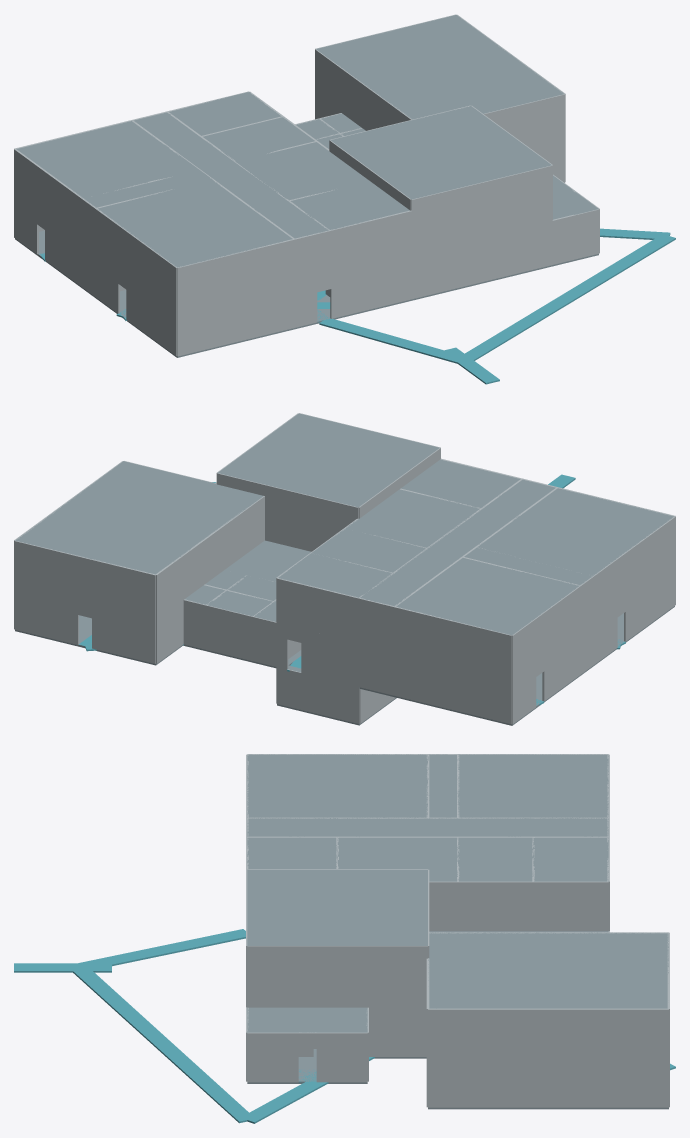
The model's file is rough-shell.glb.
3 renders of one model, top to bottom at view 1: azimuth 30°, elevation 25°; view 2: azimuth 150°, elevation 25°; view 3: azimuth 270°, elevation 25°, orthographic. The views are drawn at different scales.
Visible parts, largest first — view 1: Ceiling cap gym, Ceiling cap assembly, Ceiling cap library, Wall assembly S, Ceiling cap class-b, Ceiling cap upper-corridor, Wall library S, Wall class-a-store S, Ceiling cap upper-stair, Wall dining S, Wall library W, Wall upper-lobby S (+28 smaller); view 2: Ceiling cap gym, Ceiling cap assembly, Ceiling cap library, Ceiling cap class-b, Wall gym N.001, Wall gym N, Ceiling cap upper-corridor, Wall class-b N, Wall science N, Wall assembly N, Ceiling cap upper-stair, Wall wash-a N (+33 smaller); view 3: Wall gym E, Ceiling cap gym, Ceiling cap assembly, Ceiling cap library, Wall assembly E, Ceiling cap class-b, Ceiling cap upper-corridor, Ceiling cap upper-stair, Wall wash-a E, Wall wash-b E, Ceiling cap wash-a, L41 support 1 (+12 smaller).
Part boxes in pixels (<box>): Ceiling cap gym: <box>316,15,563,119</box>; Ceiling cap assembly: <box>331,106,551,199</box>; Ceiling cap library: <box>97,180,292,267</box>; Wall assembly S: <box>411,165,552,254</box>; Ceiling cap class-b: <box>16,121,199,198</box>; Ceiling cap upper-corridor: <box>133,112,328,238</box>; Wall library S: <box>177,239,294,312</box>; Wall class-a-store S: <box>177,284,294,356</box>; Ceiling cap upper-stair: <box>235,142,369,200</box>; Wall dining S: <box>412,232,505,299</box>; Wall library W: <box>95,208,177,311</box>; Wall upper-lobby S: <box>329,210,411,274</box>; Ceiling cap gym: <box>15,461,263,574</box>; Ceiling cap assembly: <box>218,413,439,507</box>; Ceiling cap library: <box>477,488,674,575</box>; Ceiling cap class-b: <box>396,558,579,635</box>; Wall gym N.001: <box>14,540,78,644</box>; Wall gym N: <box>92,559,155,663</box>; Ceiling cap upper-corridor: <box>360,479,555,606</box>; Wall class-b N: <box>394,606,512,679</box>; Wall science N: <box>394,651,512,724</box>; Wall assembly N: <box>217,473,358,551</box>; Ceiling cap upper-stair: <box>345,489,480,547</box>; Wall wash-a N: <box>276,578,358,642</box>; Wall gym E: <box>428,1008,668,1107</box>; Ceiling cap gym: <box>428,932,668,1008</box>; Ceiling cap assembly: <box>247,869,427,945</box>; Ceiling cap library: <box>247,754,427,817</box>; Wall assembly E: <box>247,946,427,1007</box>; Ceiling cap class-b: <box>458,754,608,817</box>; Ceiling cap upper-corridor: <box>247,818,608,836</box>; Ceiling cap upper-stair: <box>337,837,457,881</box>; Wall wash-a E: <box>533,881,608,931</box>; Wall wash-b E: <box>458,881,533,931</box>; Ceiling cap wash-a: <box>533,837,608,881</box>; L41 support 1: <box>73,965,254,1123</box>.
Size of the model in its own units: 42.61 by 11.26 by 43.97.
